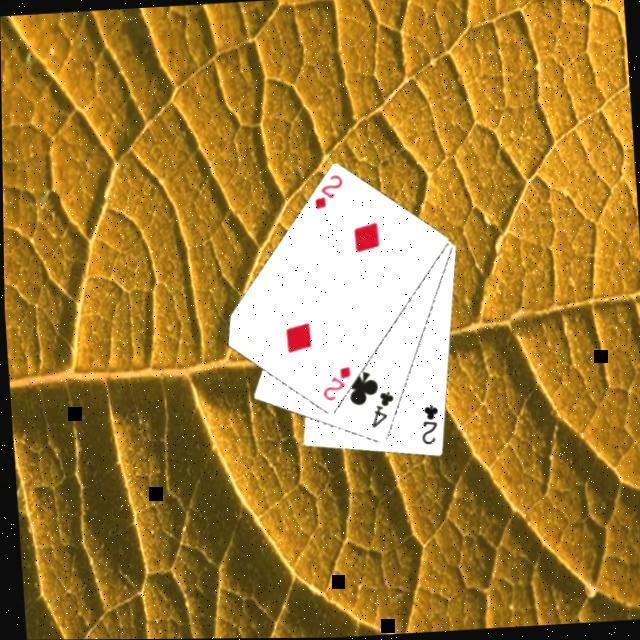2C: (416, 401, 443, 448)
2D: (317, 362, 355, 404), (310, 171, 348, 213)
4C: (366, 387, 399, 431)
